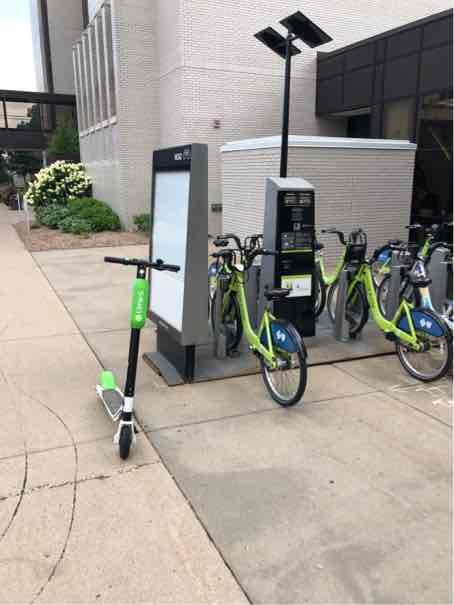scooter: (95, 251, 185, 466)
